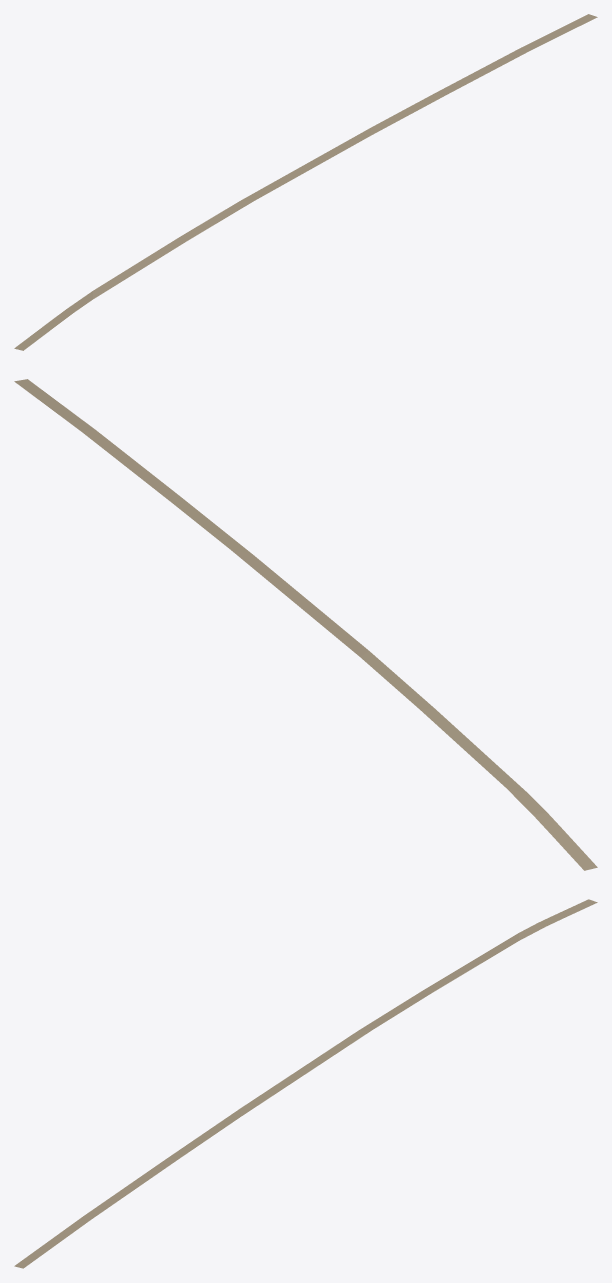
The model's file is farm_-3_1_track.glb.
The picture shows the model from 3 angles, top to bottom: view 1: azimuth 90°, elevation 25°; view 2: azimuth 150°, elevation 25°; view 3: azimuth 270°, elevation 25°; orthographic projection. The views are drawn at different scales.
Visible parts, largest first — view 1: geometry_0; view 2: geometry_0; view 3: geometry_0.
Boxes of the visible parts, bbox=[...] form: geometry_0: bbox=[14, 14, 597, 350]; geometry_0: bbox=[14, 379, 597, 870]; geometry_0: bbox=[14, 899, 597, 1268].
Bounding box in the file's own units: 241 × 8.49 × 168.
